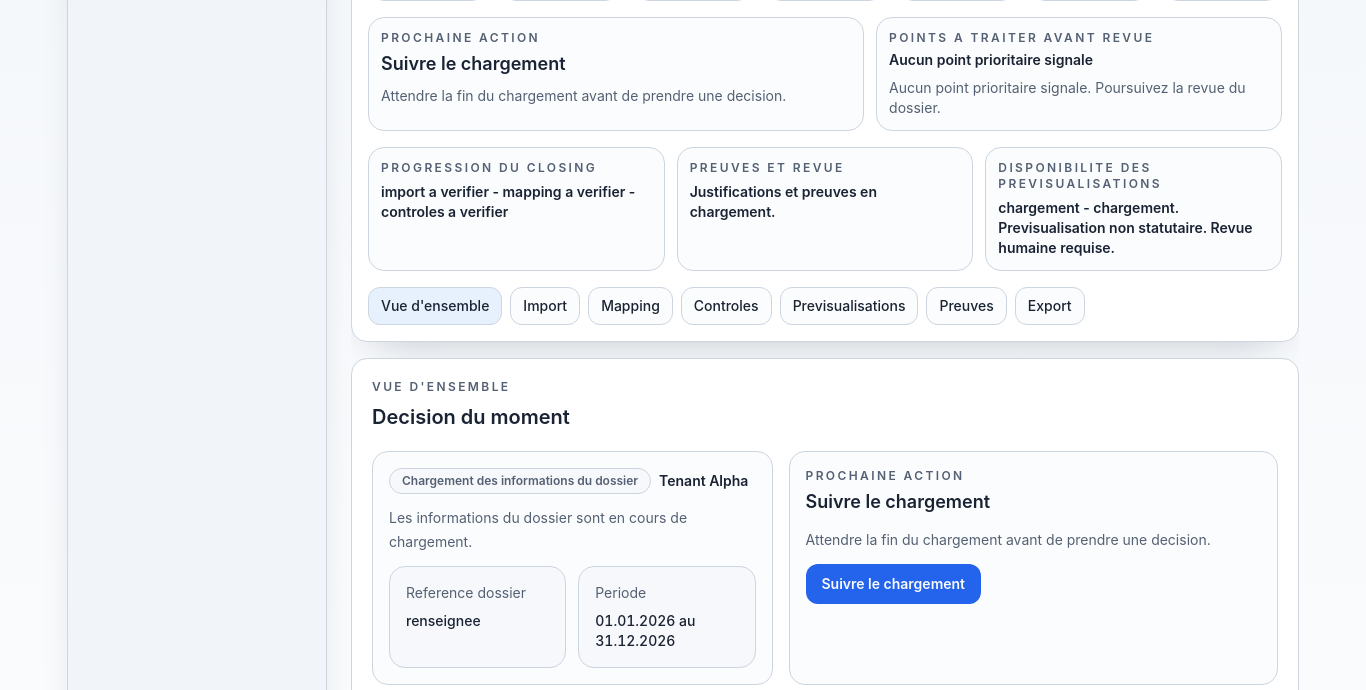
Scenario: router manual mapping › shows chargement mapping manuel while the mapping request is pending
The width and height of the screenshot is (1366, 690).
(page scrolled)
Click the tab "Mapping" at {"x": 630, "y": 306}, box left=588, top=287, right=673, bottom=325
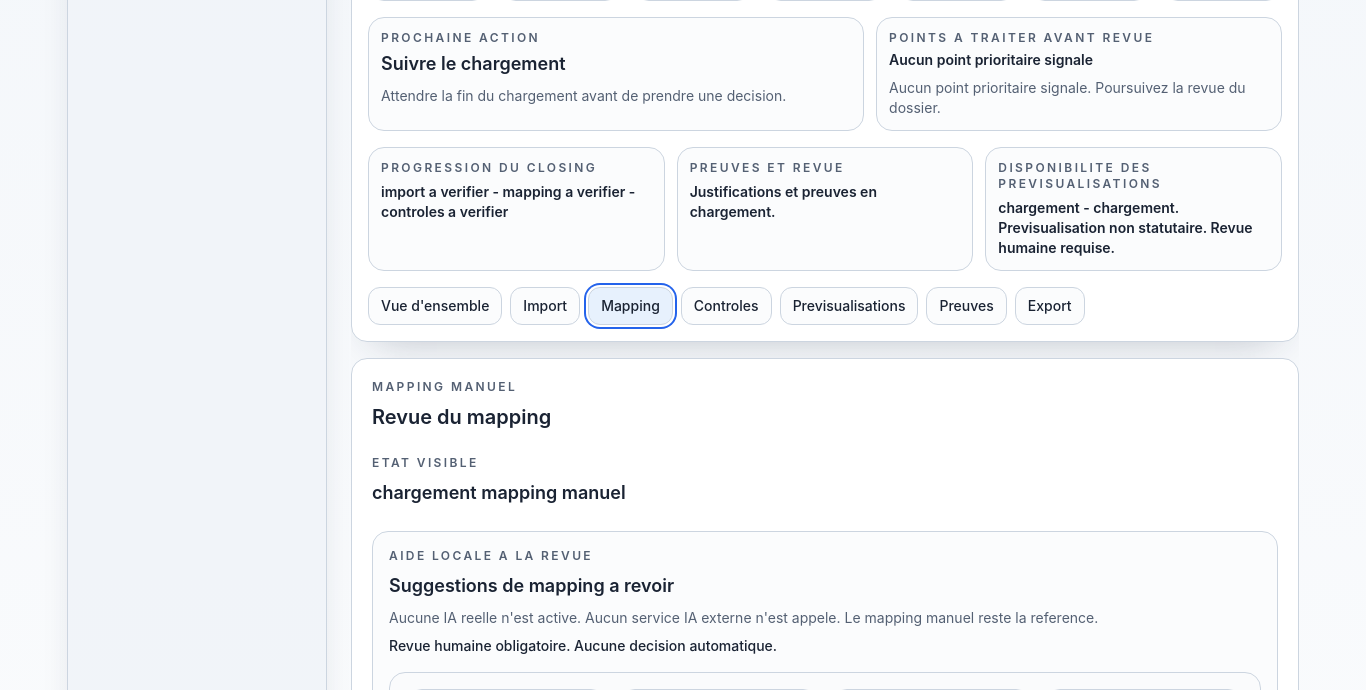
Now the text "chargement mapping manuel" is shown, box left=372, top=482, right=626, bottom=503
